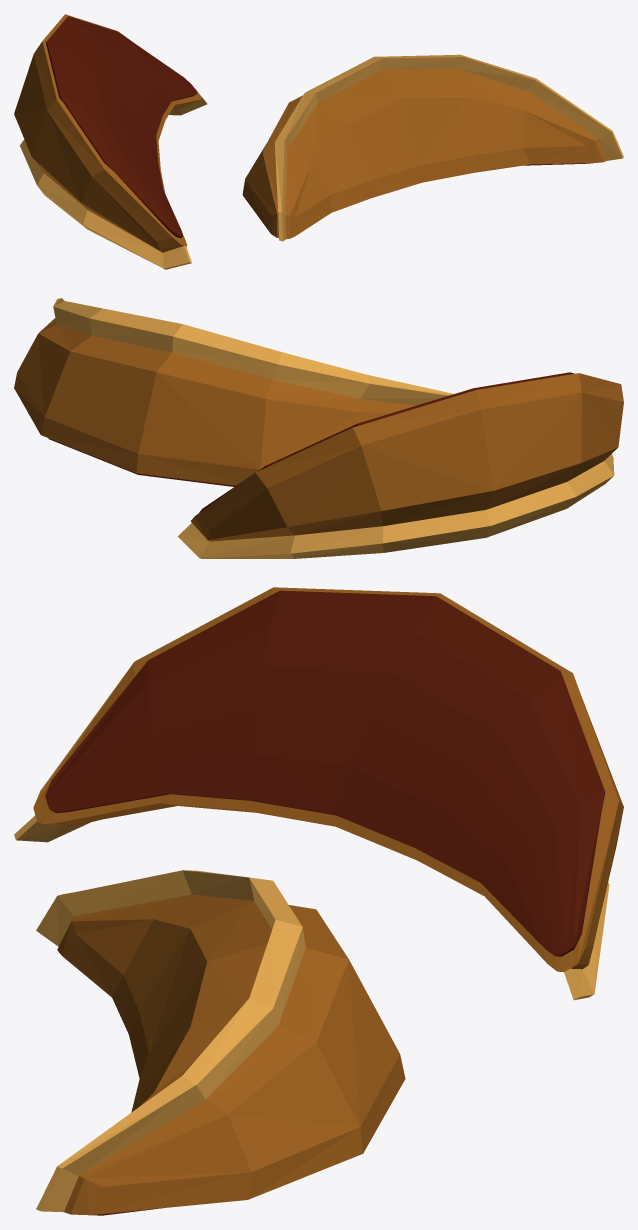
Rendered from potSticker.obj.
3 views of the same model, one above another, from view 1: azimuth 30°, elevation 25°; view 2: azimuth 150°, elevation 25°; view 3: azimuth 270°, elevation 25° (orthographic). The views are drawn at different scales.
Size of the model in its own units: 3.01 by 0.8849 by 1.85.
